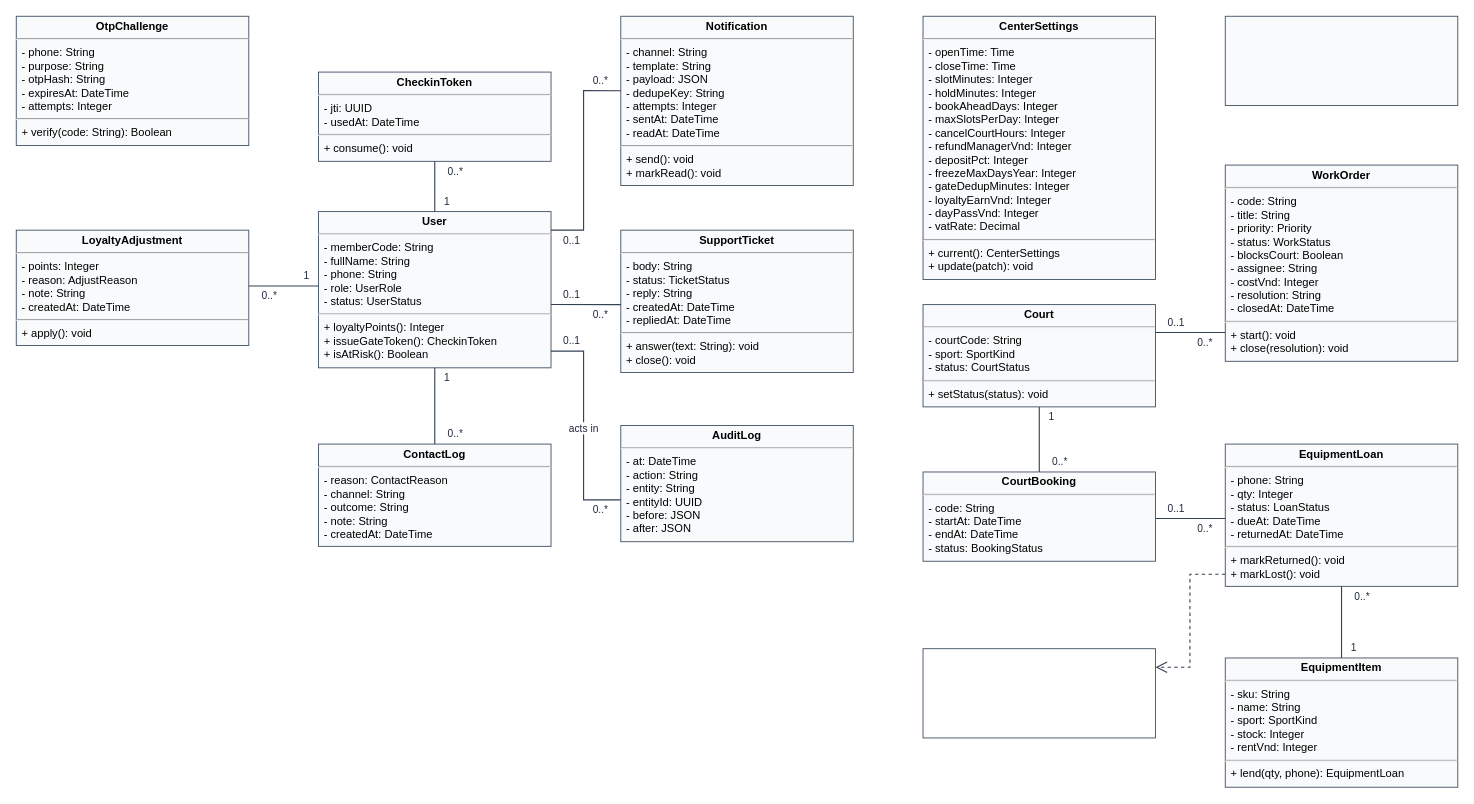
The diagram is 1474 pixels wide and 804 high, and some of its shapes have lost their labels. Here are the shapes that lost their labels. From the top down, the centre of each, then its label:
point 1341,60: FeatureFlag - key: String - enabled: Boolean + toggle(): void
point 1039,693: «enumeration» LoanStatus out returned lost
